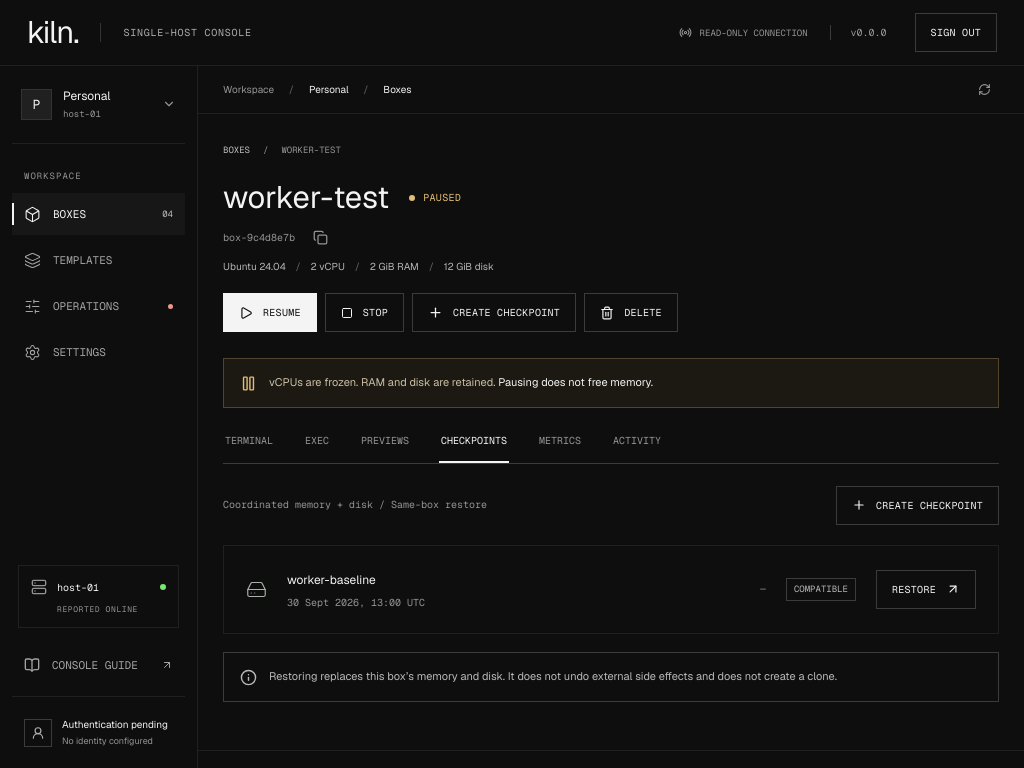
Scenario: does not restore without the replay acknowledgement, then sends one same-box restore
Click the button with aria-label "Restore worker-baseline" at (926, 590), box x1=876 y1=570 x2=976 y2=609
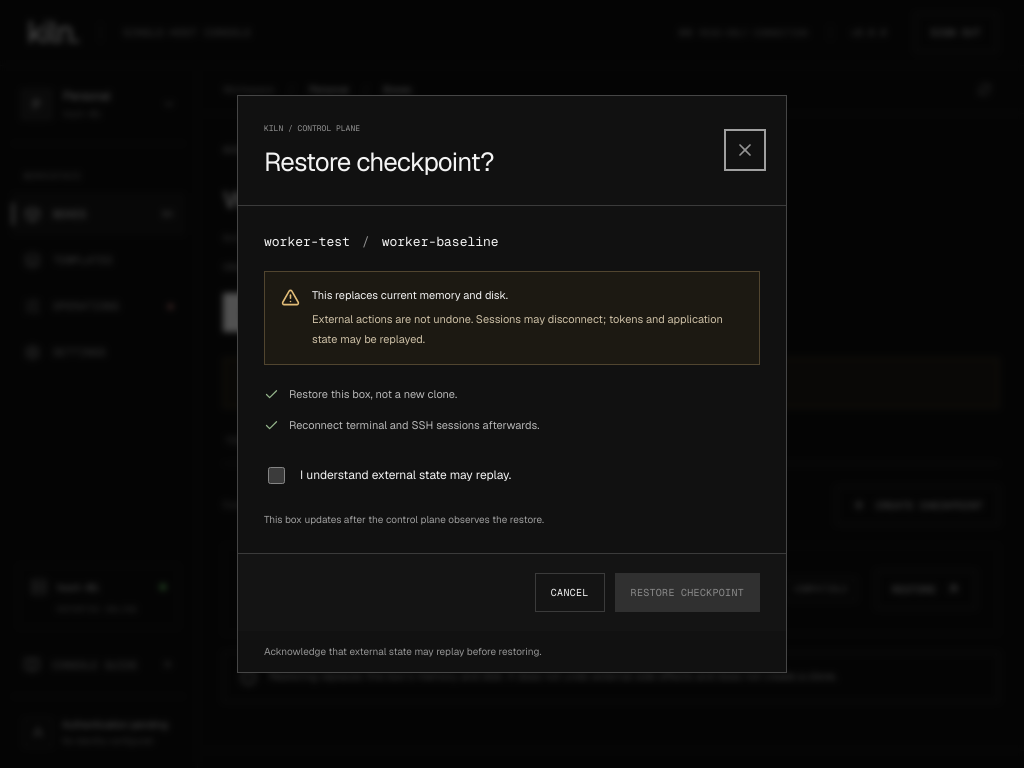
Result: the button "Restore checkpoint" is disabled at x1=615 y1=573 x2=760 y2=612
Click the checkbox labelled "I understand external state may replay." at (276, 476), box x1=268 y1=467 x2=285 y2=484
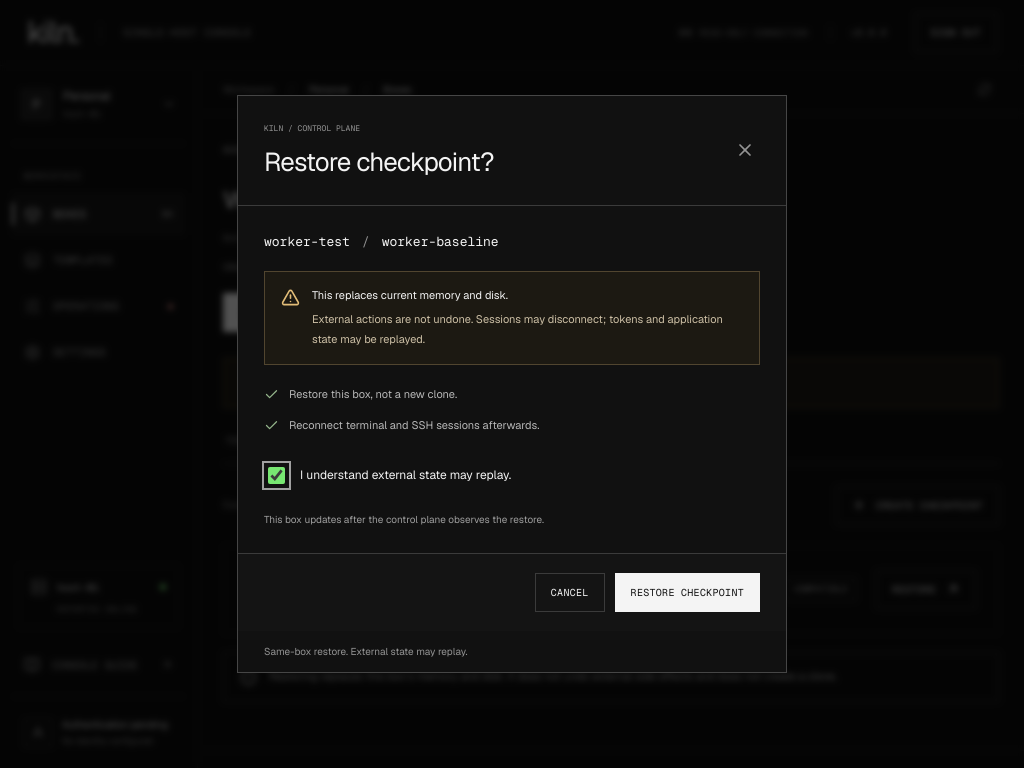
Result: the button "Restore checkpoint" is enabled
Click the button "Restore checkpoint" at (687, 593), box x1=615 y1=573 x2=760 y2=612
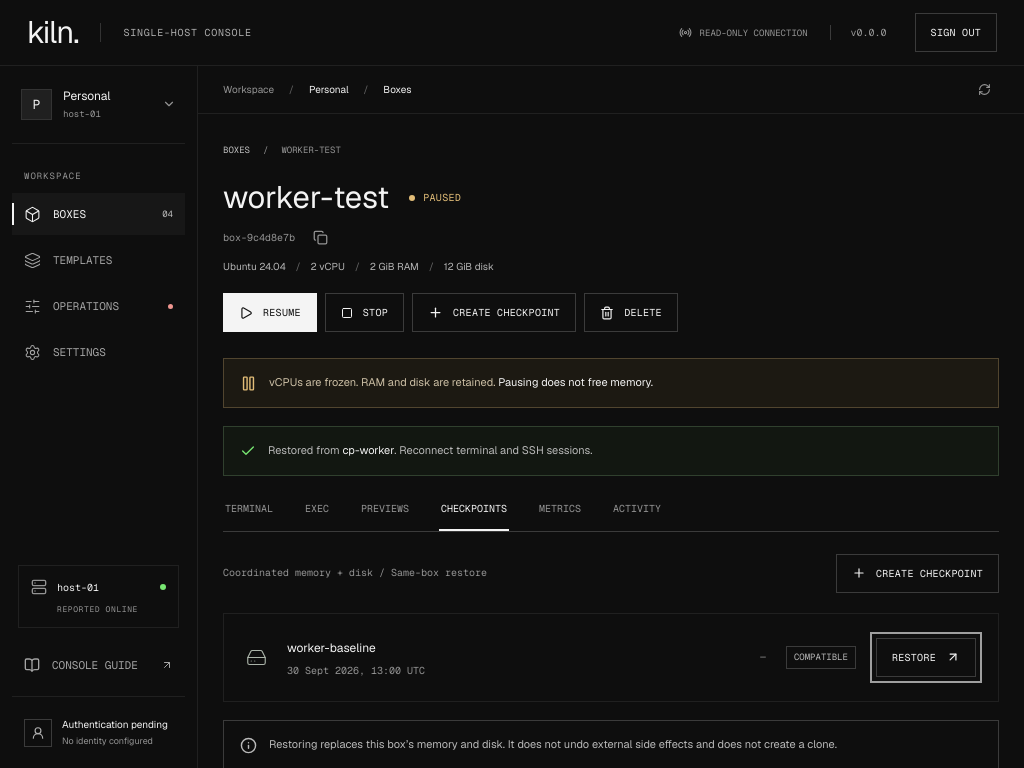
Result: the text "cp-worker" is shown at x1=342 y1=443 x2=394 y2=457
